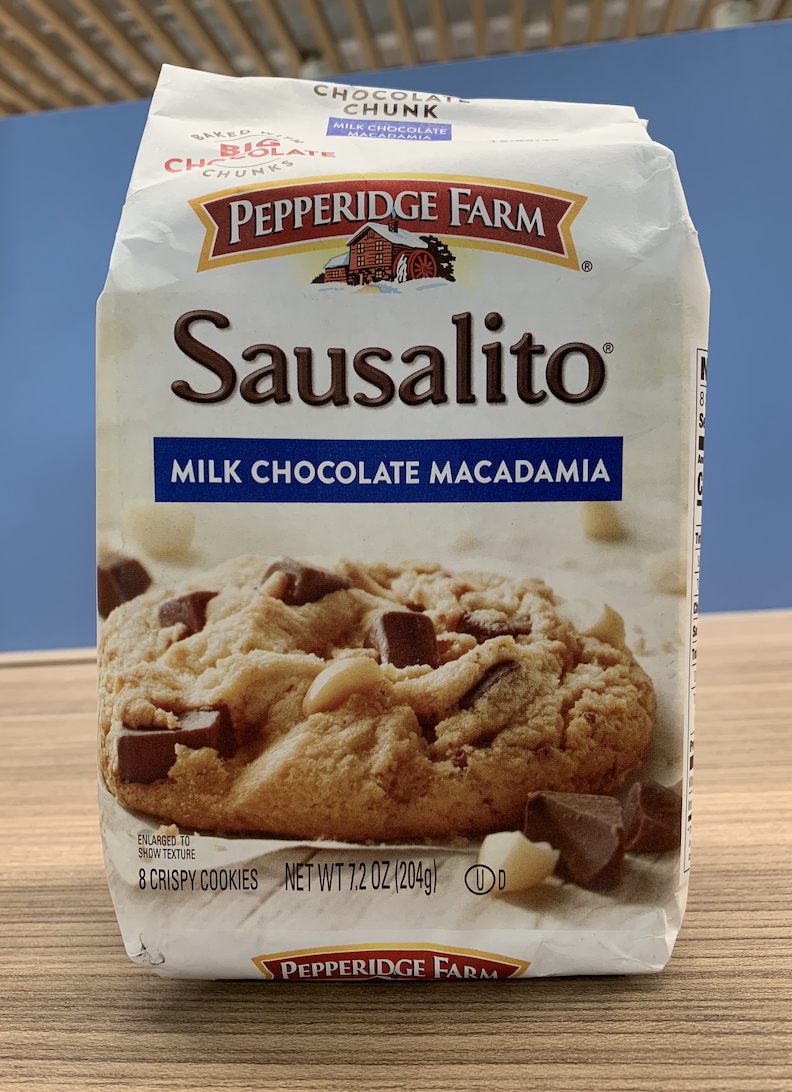cookies_200g-299g: (147, 123, 651, 940)
